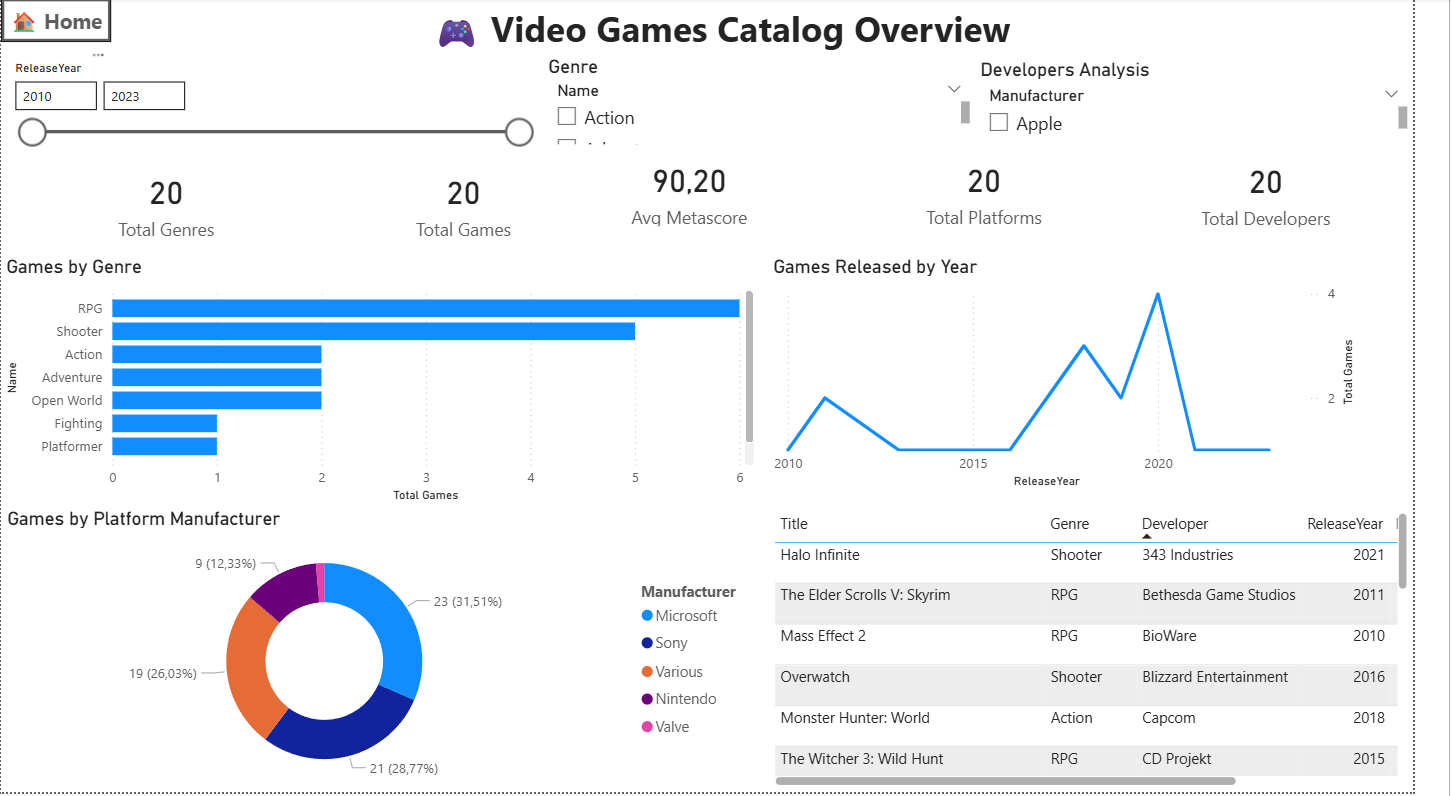

The page's visual inventory and layout, read from the dashboard file:
{"tool":"powerbi","page":{"name":"Catalog Overview","canvas":[1280,720],"ordinal":1},"visuals":[{"type":"card","fields":{"Values":["_Measures.Total Games"]},"box":[299.6,137.1,240.2,96.3],"z":0},{"type":"card","fields":{"Values":["_Measures.Total Developers"]},"box":[1013.7,138,266.3,74.7],"z":1000},{"type":"card","fields":{"Values":["_Measures.Total Genres"]},"box":[0,137.1,299.6,96.3],"z":2000},{"type":"card","fields":{"Values":["_Measures.Avg Metascore"]},"box":[499.9,137.1,249,74.9],"z":3000},{"type":"card","fields":{"Values":["_Measures.Total Platforms"]},"box":[764.5,137.1,253.9,75.9],"z":4000},{"type":"lineChart","title":"Games Released by Year","fields":{"Category":["Games.ReleaseYear"],"Y2":["_Measures.Total Games"]},"box":[695.4,233.4,536.9,215.9],"z":5000},{"type":"clusteredBarChart","title":"Games by Genre","fields":{"Category":["Genres.Name"],"Y":["_Measures.Total Games"]},"box":[0,233.4,687.7,228.6],"z":6000},{"type":"donutChart","title":"Games by Platform Manufacturer","fields":{"Category":["Platforms.Manufacturer"],"Y":["CountNonNull(GamePlatforms.GameID)"]},"box":[0.9,461.6,686.4,258.4],"z":7000},{"type":"tableEx","fields":{"Values":["Games.Title","Genres.Name","Developers.Name","Sum(Games.ReleaseYear)","Sum(Games.Metascore)","Sum(Games.Price)","Games.PriceCategory"]},"box":[695.5,461.6,584.9,258.4],"z":8000},{"type":"slicer","fields":{"Values":["Games.ReleaseYear"]},"box":[0,51.6,491.2,85.6],"z":9000},{"type":"slicer","title":"Genre","fields":{"Values":["Genres.Name"]},"box":[491.2,51.6,392,85.6],"z":10000},{"type":"slicer","title":"Developers Analysis","fields":{"Values":["Platforms.Manufacturer"]},"box":[883.2,54.5,396.8,82.7],"z":11000},{"type":"textbox","box":[299.8,0,706.6,54.7],"z":12000},{"type":"actionButton","box":[0,0,100,40],"z":12001}]}

Visuals, with their boxes on the page's 1280x720 design canvas (x1, y1, x2, y2). These are canvas units, not pixel positions in the 1451x796 screenshot, which may show the page scaled, cropped or inside an application window:
card - _Measures.Total Games: (300, 137, 540, 233)
card - _Measures.Total Developers: (1014, 138, 1280, 213)
card - _Measures.Total Genres: (0, 137, 300, 233)
card - _Measures.Avg Metascore: (500, 137, 749, 212)
card - _Measures.Total Platforms: (764, 137, 1018, 213)
"Games Released by Year" lineChart: (695, 233, 1232, 449)
"Games by Genre" clusteredBarChart: (0, 233, 688, 462)
"Games by Platform Manufacturer" donutChart: (1, 462, 687, 720)
tableEx - Games.Title x Genres.Name: (696, 462, 1280, 720)
slicer - Games.ReleaseYear: (0, 52, 491, 137)
"Genre" slicer: (491, 52, 883, 137)
"Developers Analysis" slicer: (883, 54, 1280, 137)
textbox: (300, 0, 1006, 55)
actionButton: (0, 0, 100, 40)
